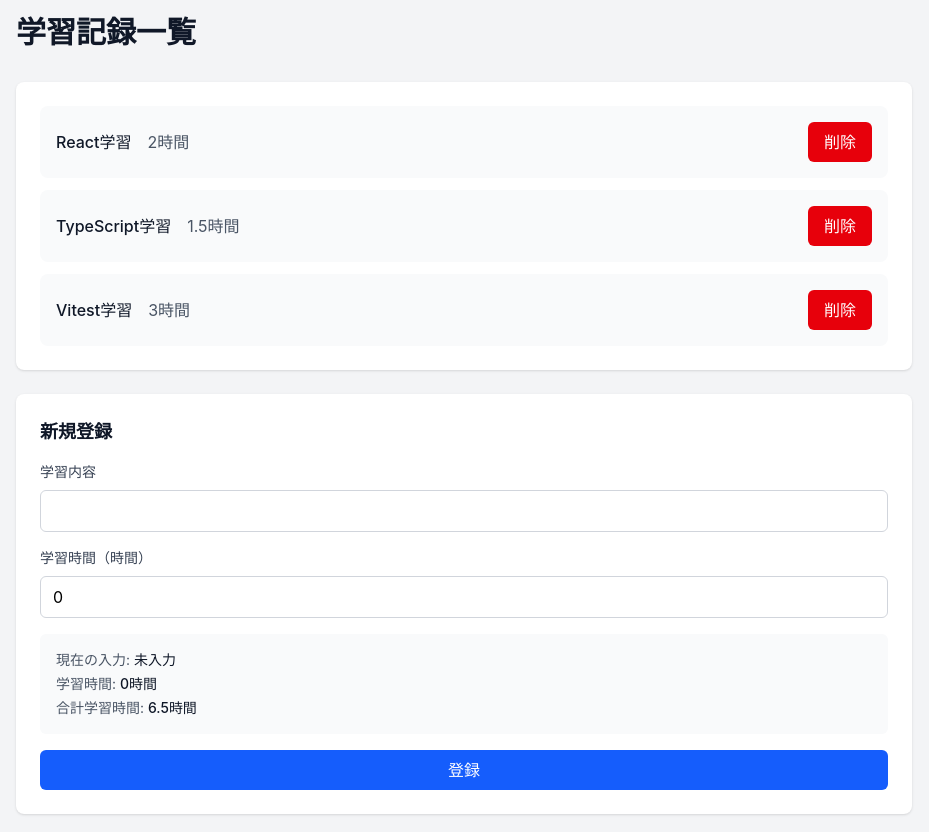
Test: 学習記録アプリ › 削除ボタンを押すと学習記録が削除される
Expected: the heading "React学習" is shown, [56,130,132,154]
Expected: the heading "TypeScript学習" is shown, [56,214,171,238]
# 最初の削除ボタンをクリック（React学習を削除）
Click the button "削除" in the row of "React学習" at [840, 142], box [808,122,872,162]
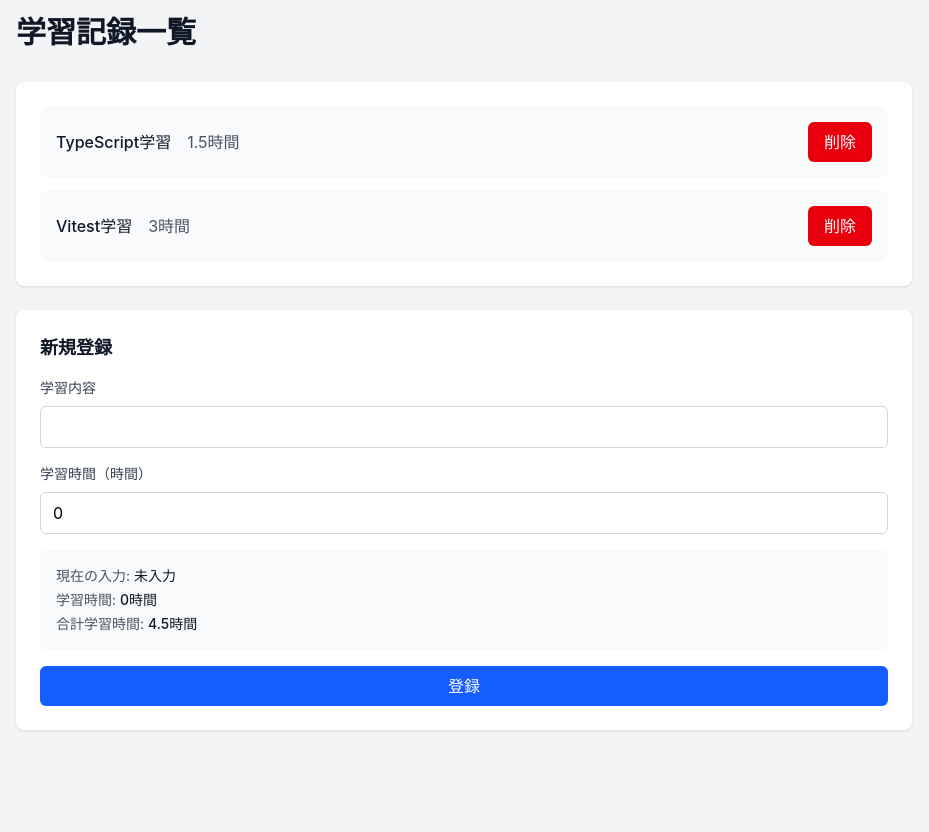
Expected: the heading "TypeScript学習" is shown, [56,130,171,154]
Result: the heading "React学習" is gone
Result: the number of buttons "削除" is 2 at [808,122,872,162]; [808,206,872,246]
